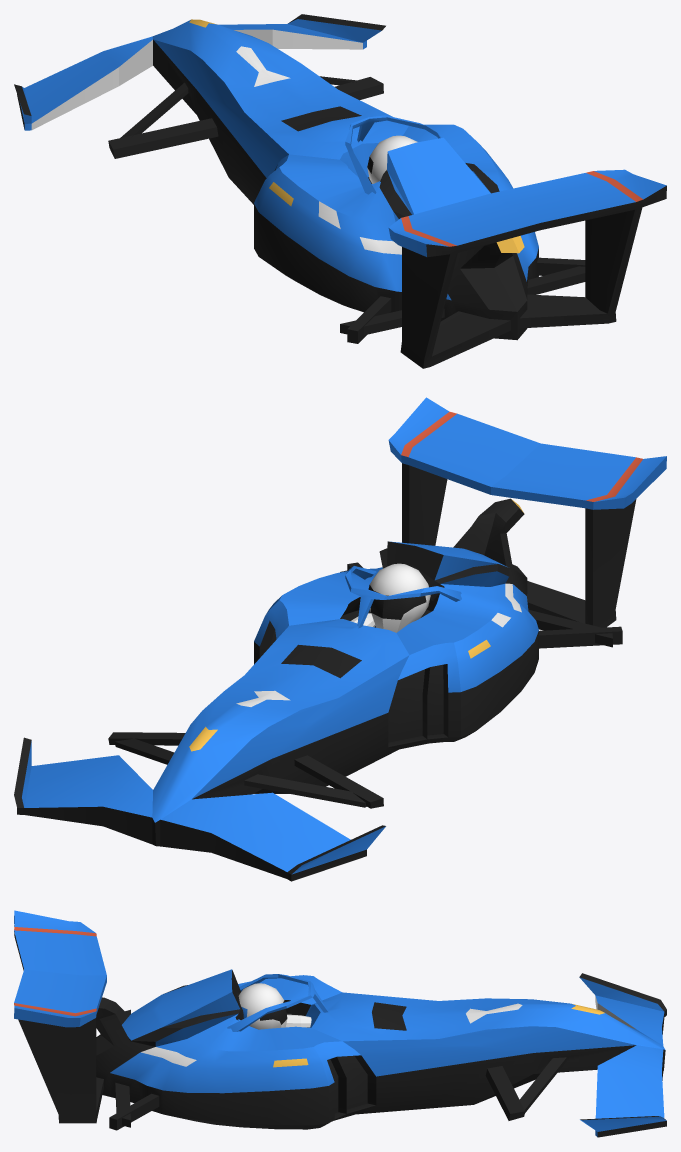
The model's file is formula1_blue.glb.
The picture shows the model from 3 angles, top to bottom: view 1: azimuth 30°, elevation 25°; view 2: azimuth 150°, elevation 25°; view 3: azimuth 270°, elevation 25°; orthographic projection. The views are drawn at different scales.
Visible parts, largest first — view 1: formula1_blue; view 2: formula1_blue; view 3: formula1_blue.
Part boxes in pixels (box(x1,y1,x2,y2)): formula1_blue: box(14, 14, 666, 368); formula1_blue: box(14, 397, 666, 881); formula1_blue: box(14, 910, 666, 1137).
Size of the model in its own units: 1.44 by 0.5998 by 2.7.
1 material, 1 textured.
